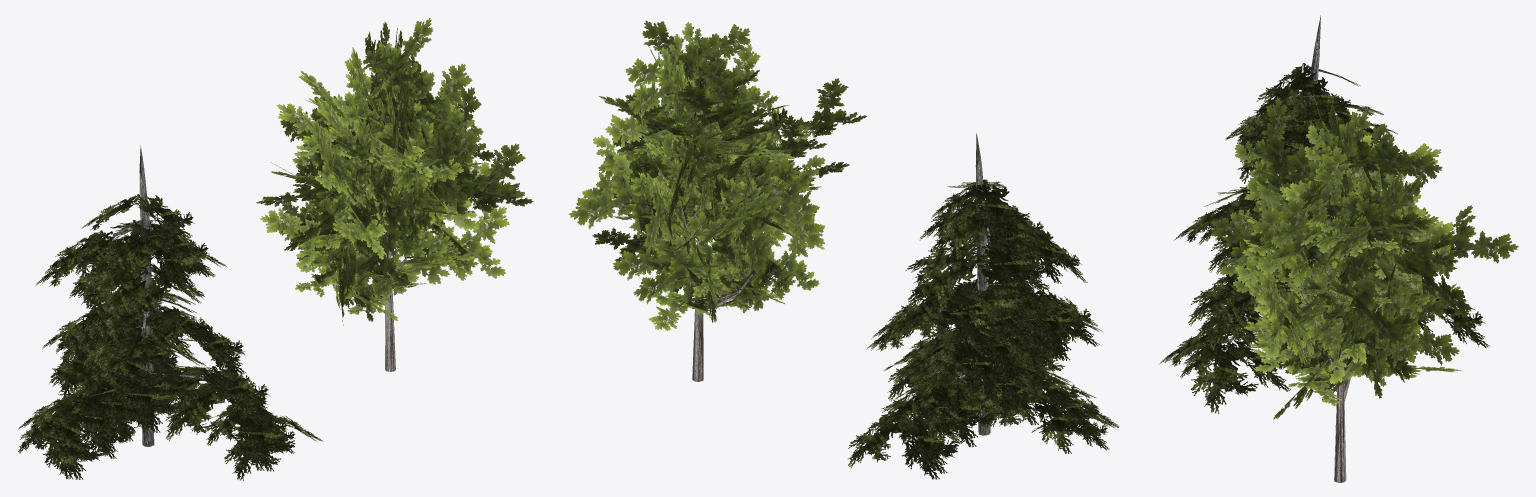
Rendered from low-poly-vegetation-for-games-cdac82.glb.
The picture shows the model from 3 angles, left to right: view 1: azimuth 30°, elevation 25°; view 2: azimuth 150°, elevation 25°; view 3: azimuth 270°, elevation 25°; orthographic projection. The views are drawn at different scales.
Visible parts, largest first — view 1: PropMesh; view 2: PropMesh; view 3: PropMesh.
Boxes of the visible parts, x1,y1,x2,y2 form: PropMesh: (18,18,533,480); PropMesh: (569,20,1118,479); PropMesh: (1158,15,1518,482).
Bounding box in the file's own units: 3.3 × 2.2 × 1.89.
4 materials, 4 textured.
